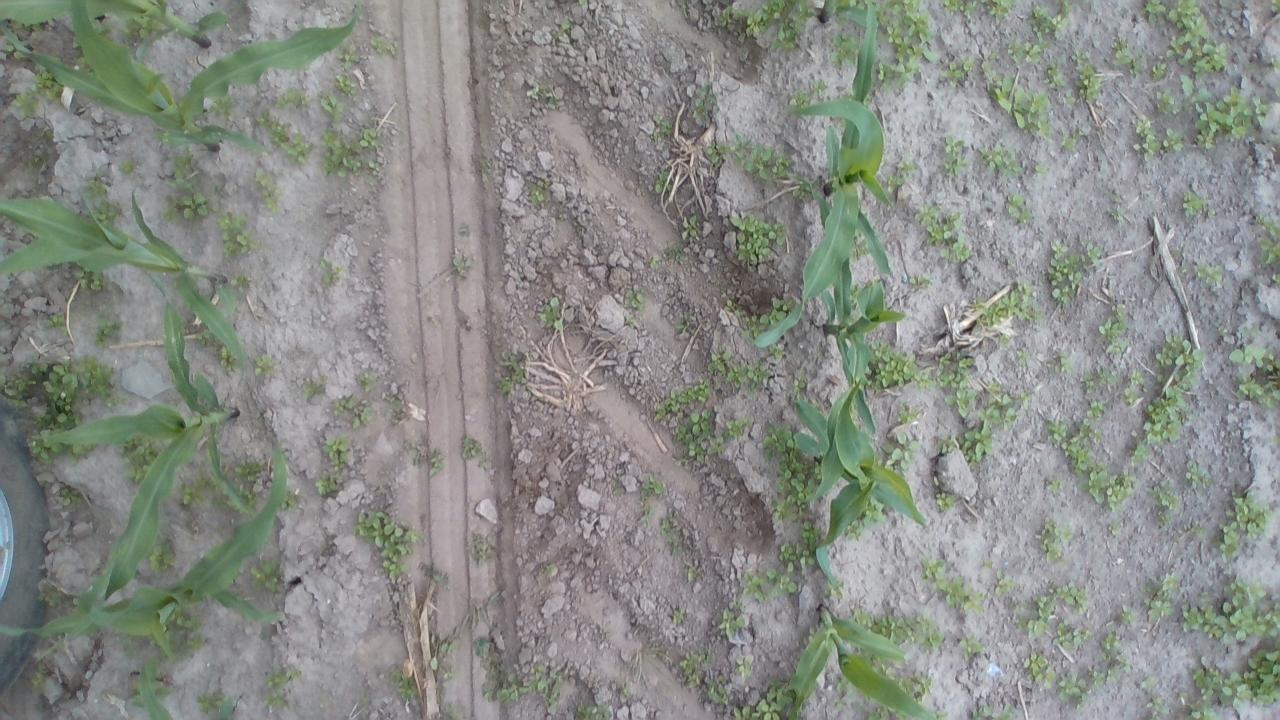Maize: (0, 266, 255, 644), (4, 2, 360, 153), (102, 436, 288, 718), (757, 2, 891, 347), (1, 191, 244, 362), (794, 378, 928, 600), (814, 195, 906, 436), (792, 602, 932, 720), (1, 1, 233, 47), (818, 1, 868, 26)
Weeds: (1128, 327, 1206, 464), (1038, 411, 1138, 509), (1177, 572, 1280, 645), (708, 132, 814, 194), (472, 638, 561, 710), (1184, 640, 1280, 706), (651, 382, 725, 466), (1142, 0, 1224, 72), (0, 364, 82, 432), (874, 0, 936, 88), (316, 93, 378, 180), (356, 503, 418, 586), (760, 422, 812, 519), (1189, 86, 1267, 148), (987, 74, 1055, 136), (1218, 486, 1270, 564), (868, 336, 933, 396), (968, 277, 1046, 327), (921, 554, 982, 616), (728, 207, 789, 269), (1047, 238, 1101, 304), (1026, 582, 1090, 636), (914, 202, 969, 262), (620, 645, 676, 699), (256, 110, 310, 163), (867, 615, 942, 648), (935, 355, 973, 418), (707, 350, 769, 388), (217, 209, 260, 262), (1134, 117, 1185, 161), (731, 683, 790, 720), (974, 374, 1017, 424), (157, 148, 198, 194), (942, 50, 996, 84), (741, 0, 783, 43), (976, 139, 1018, 181), (80, 352, 118, 397), (332, 393, 374, 433), (742, 572, 798, 602), (1036, 518, 1072, 564), (678, 642, 713, 689), (740, 298, 790, 330), (160, 192, 207, 225), (1028, 2, 1071, 38), (1150, 477, 1184, 522), (881, 431, 921, 469), (254, 168, 286, 214), (1072, 52, 1102, 101), (1002, 39, 1056, 66), (958, 424, 992, 466), (1110, 34, 1142, 77), (1099, 302, 1125, 354), (1054, 618, 1091, 654), (1227, 346, 1279, 371), (194, 688, 236, 718), (621, 284, 650, 326), (1058, 672, 1088, 712), (718, 598, 745, 640), (64, 266, 104, 294), (122, 440, 148, 483), (498, 354, 524, 397), (122, 13, 160, 42), (1238, 377, 1280, 403), (428, 634, 457, 671), (689, 84, 716, 122), (250, 562, 282, 594), (386, 668, 416, 702), (407, 444, 444, 470), (898, 672, 930, 702), (1026, 652, 1054, 686), (1124, 366, 1146, 409), (1140, 596, 1176, 622), (1180, 74, 1211, 104), (940, 134, 961, 178), (469, 532, 496, 566), (260, 666, 298, 690), (770, 16, 796, 50), (1184, 460, 1210, 494), (536, 294, 560, 330), (643, 244, 686, 264), (798, 520, 816, 567), (1004, 192, 1033, 221), (34, 70, 61, 101), (31, 437, 63, 463), (1046, 54, 1067, 92), (326, 436, 352, 466), (852, 696, 889, 717), (1100, 629, 1122, 664), (208, 97, 240, 121), (180, 482, 208, 509), (1080, 368, 1114, 390), (706, 673, 730, 704), (14, 89, 40, 117), (994, 569, 1020, 597), (526, 80, 556, 104), (650, 111, 674, 141), (1147, 572, 1178, 595), (829, 32, 855, 59), (316, 469, 342, 496), (276, 86, 309, 107), (84, 170, 108, 198), (526, 180, 550, 208), (95, 199, 124, 222), (151, 541, 174, 570), (1197, 262, 1223, 287), (255, 350, 282, 374), (941, 0, 977, 18), (572, 702, 608, 720), (659, 518, 678, 552), (894, 402, 926, 422), (1145, 692, 1169, 718), (94, 318, 119, 342), (777, 542, 797, 572), (1260, 236, 1280, 266), (981, 0, 1014, 18), (1090, 666, 1120, 685), (368, 35, 398, 54), (679, 214, 700, 241), (830, 679, 850, 707), (974, 704, 1014, 718), (1180, 190, 1201, 216), (38, 587, 66, 606), (1154, 89, 1176, 113), (674, 310, 696, 334), (300, 376, 322, 400), (932, 490, 956, 512), (339, 46, 361, 70), (319, 259, 339, 285), (960, 634, 980, 660), (172, 609, 200, 627), (932, 433, 956, 454), (460, 434, 481, 458), (654, 169, 674, 194), (716, 5, 737, 28), (1256, 216, 1280, 236), (452, 252, 473, 274), (334, 73, 356, 94), (736, 654, 756, 677), (638, 484, 662, 503), (356, 371, 380, 390), (1192, 701, 1218, 718), (726, 419, 748, 439), (58, 486, 78, 506), (866, 501, 883, 524), (798, 0, 814, 24), (264, 693, 288, 709), (234, 462, 266, 474), (908, 273, 932, 289), (552, 22, 573, 40), (72, 442, 95, 458), (31, 670, 49, 690), (1035, 158, 1050, 182), (230, 272, 250, 290), (47, 310, 64, 330), (1086, 396, 1106, 413), (538, 562, 558, 579), (282, 488, 298, 508), (1056, 134, 1076, 150), (122, 640, 139, 658), (1191, 521, 1208, 539), (218, 347, 233, 367), (886, 174, 904, 190), (1018, 392, 1034, 410), (1118, 606, 1132, 626), (850, 608, 867, 624), (183, 633, 202, 647), (1152, 62, 1168, 78), (769, 344, 783, 362), (1138, 677, 1156, 691), (196, 328, 210, 346), (1016, 346, 1030, 364), (849, 522, 864, 538), (1006, 611, 1022, 626), (1044, 474, 1058, 491), (120, 159, 136, 173), (1106, 521, 1123, 534), (671, 610, 684, 627), (896, 158, 914, 170), (1242, 323, 1256, 338), (1267, 56, 1280, 72), (812, 79, 828, 92), (1108, 206, 1124, 219), (243, 492, 257, 506), (794, 376, 808, 389), (1218, 321, 1230, 336), (1058, 358, 1073, 370), (792, 92, 809, 102), (996, 334, 1010, 346), (848, 284, 860, 298), (358, 694, 372, 705), (686, 569, 697, 582), (981, 558, 994, 569), (641, 510, 652, 522), (1271, 0, 1280, 14), (447, 710, 459, 720), (1270, 434, 1280, 446), (443, 670, 452, 678), (578, 0, 586, 5)
